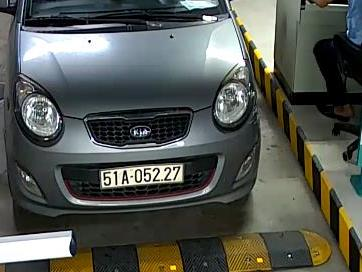number: (99, 162, 185, 189)
